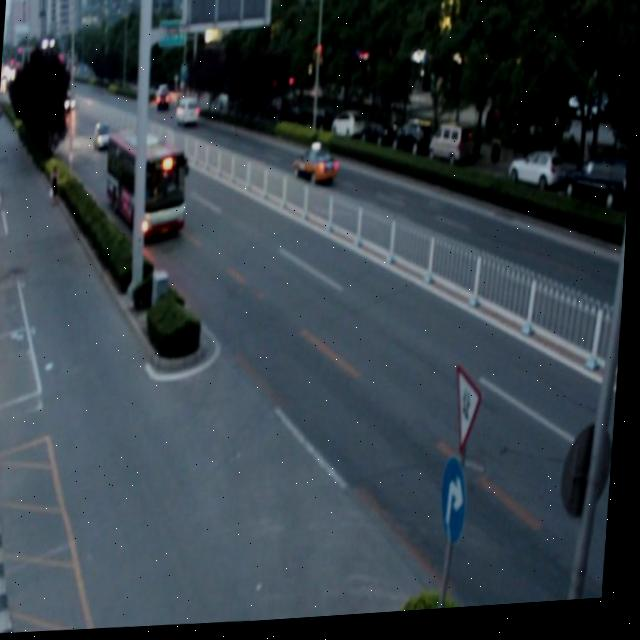car: (291, 145, 340, 191)
truck: (176, 99, 202, 128)
van: (104, 125, 190, 245)
